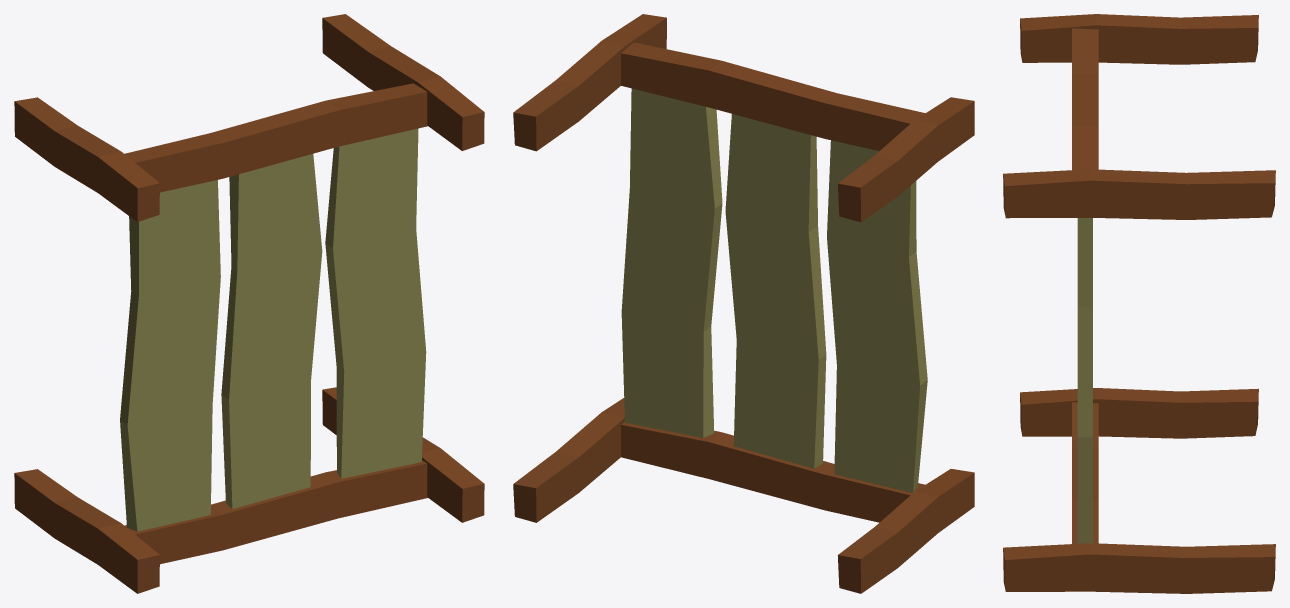
File: Jetty.fbx
3 views of the same model, side by side, from view 1: azimuth 30°, elevation 25°; view 2: azimuth 150°, elevation 25°; view 3: azimuth 270°, elevation 25° (orthographic).
Visible parts, largest first — view 1: Cube.008; view 2: Cube.008; view 3: Cube.008.
Part boxes in pixels (<box>): Cube.008: <box>14,14,484,593</box>; Cube.008: <box>513,14,974,593</box>; Cube.008: <box>1003,14,1275,593</box>.
Bounding box in the file's own units: 839 × 959 × 573.
